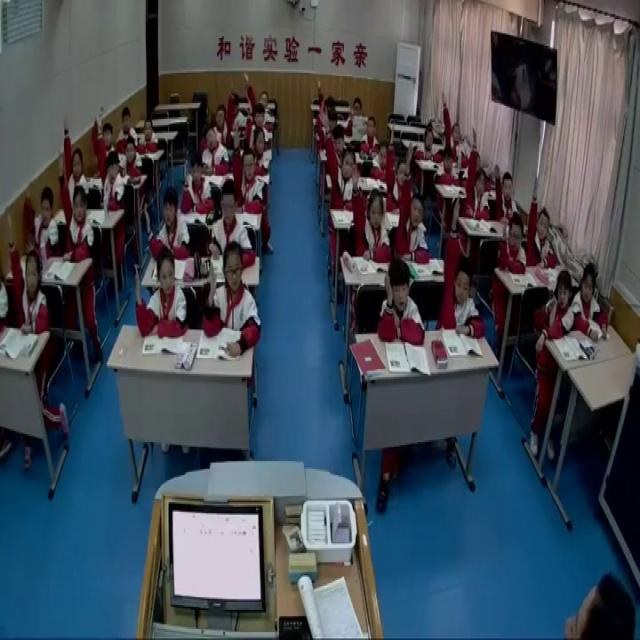focused: (210, 183, 258, 273), (572, 258, 608, 345), (537, 264, 575, 346), (201, 127, 231, 181), (115, 106, 135, 160), (436, 142, 460, 186), (122, 138, 143, 186), (137, 118, 160, 158), (415, 126, 438, 165), (372, 139, 391, 182), (359, 118, 382, 151), (350, 98, 366, 129)
raising_hand: (200, 248, 266, 353), (444, 189, 486, 338), (4, 208, 49, 337), (132, 250, 186, 339), (350, 163, 396, 265), (320, 112, 360, 212), (59, 150, 93, 265), (397, 140, 429, 261), (380, 259, 424, 343), (93, 103, 126, 209), (20, 174, 58, 260), (143, 188, 189, 258), (230, 127, 267, 210), (522, 175, 554, 266), (60, 113, 87, 206), (179, 147, 214, 217), (463, 129, 488, 220), (385, 120, 410, 208), (245, 74, 277, 135), (441, 90, 469, 158), (489, 163, 519, 223), (501, 208, 527, 275), (92, 104, 117, 168), (213, 85, 237, 146), (242, 99, 270, 149), (312, 79, 334, 125)
